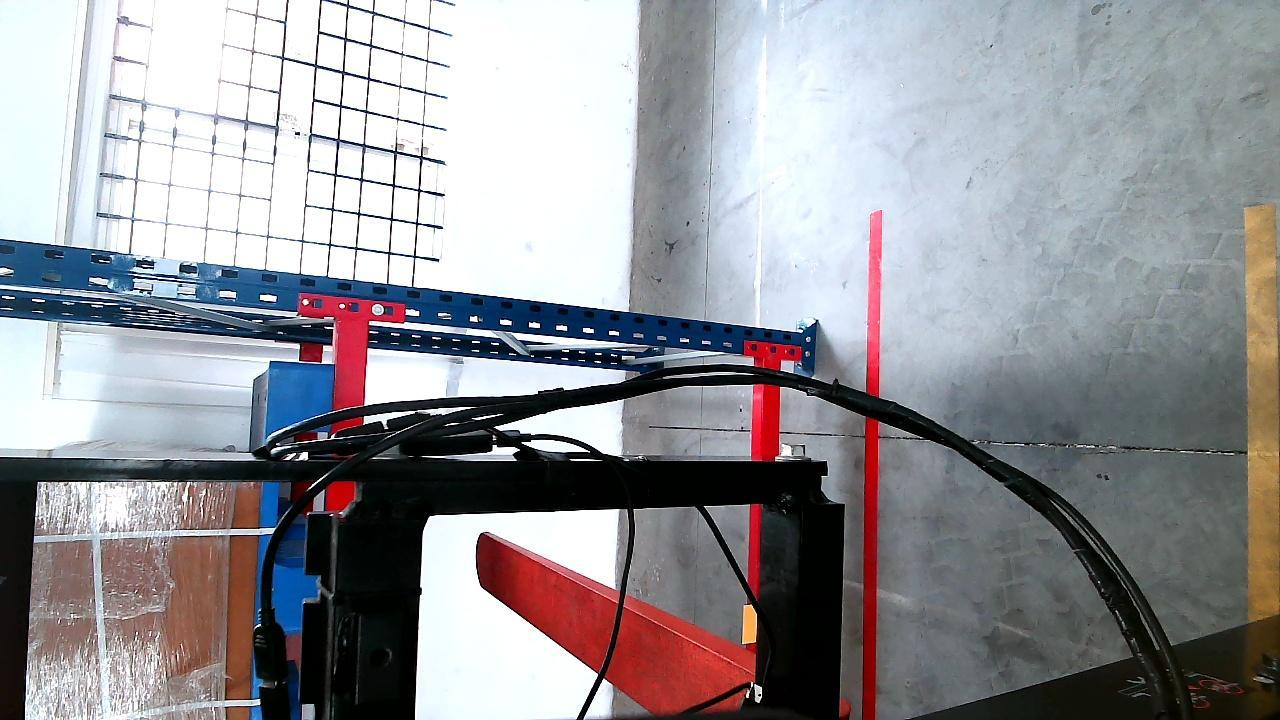red_line: (859, 207, 882, 718)
yellow_line: (1246, 207, 1279, 694)
